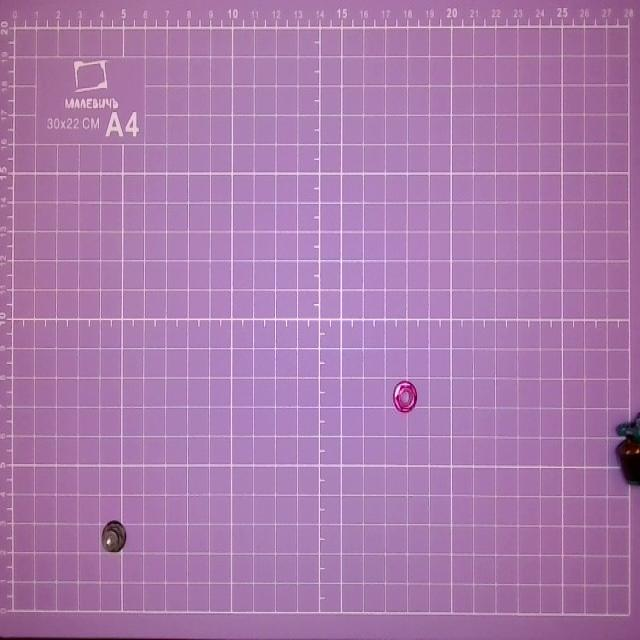motor: (612, 399, 640, 496)
screw_M5: (382, 381, 422, 414), (100, 516, 128, 558)
